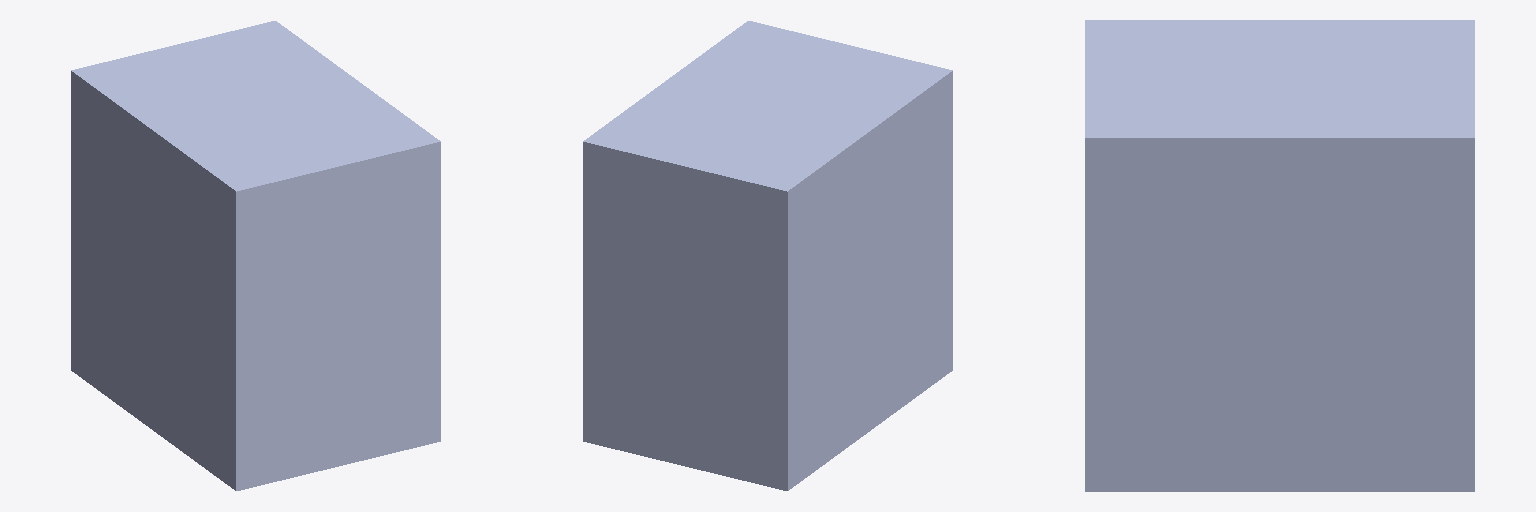
URDF robot description (box):
<?xml version="1.0" encoding="utf-8"?>
<!-- This URDF was automatically created by SolidWorks to URDF Exporter! Originally created by [author] ([email redacted])
     Commit Version: 1.6.0-1-g15f4949  Build Version: 1.6.7594.29634
     For more information, please see http://wiki.ros.org/sw_urdf_exporter -->
<robot
  name="box">

    <link
      name="cube">
      <inertial>
        <origin
          xyz="0.000245228555021293 -0.000485601868001451 0.0326909146616174"
          rpy="0 0 0" />
        <mass
          value="7"/>
        <inertia
          ixx="0.008701656"
          ixy="-0.000134145"
          ixz="0.002807382"
          iyx="0.002807382"
          iyy="0.010493128"
          iyz="-0.000209051"
          izx="0.002807382"
          izy="-0.000209051"
          izz="0.007528117" />
      </inertial>
      <visual>
        <origin
          xyz="0 0 0"
          rpy="0 0 0" />
        <geometry>
          <mesh
            filename="package://Assem_fnl/meshes/visual/cube.STL" />
        </geometry>
        <material
          name="">
          <color
            rgba="0.792156862745098 0.819607843137255 0.933333333333333 1" />
        </material>
      </visual>
      <collision>
        <origin
          xyz="0 0 0"
          rpy="0 0 0" />
        <geometry>
          <mesh
            filename="package://Assem_fnl/meshes/visual/cube.STL" />
        </geometry>
      </collision>
    </link>

    <gazebo reference="cube">
      <mu1>20000.0</mu1>
      <mu2>20000</mu2>
    </gazebo>

</robot>

--- What the picture shows (computed from the rendered views, not written in the file) ---
3 views of the same robot in one strip: view 1: azimuth 30°, elevation 25°; view 2: azimuth 150°, elevation 25°; view 3: azimuth 270°, elevation 25° (orthographic).
Model box with 1 links and 0 joints (none), rooted at cube, posed every joint at zero.
Links seen in each view (by area): view 1: cube; view 2: cube; view 3: cube.
Link boxes in pixels (<box>): cube: <box>71,21,440,490</box>; cube: <box>583,21,952,490</box>; cube: <box>1085,20,1474,491</box>.
Bounding box of the posed robot: 0.05 × 0.07 × 0.07 m (x, y, z).
1 mesh visuals loaded from 1 distinct referenced files (1 binary STL).